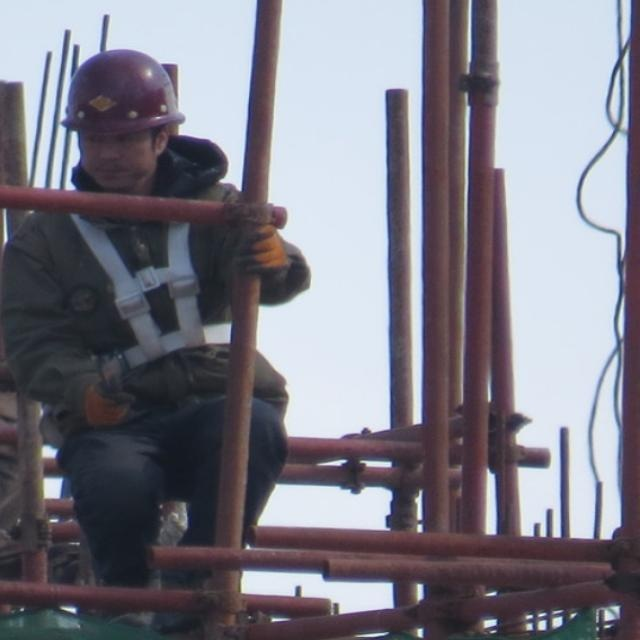Arnes_seguridad: (52, 181, 237, 375)
